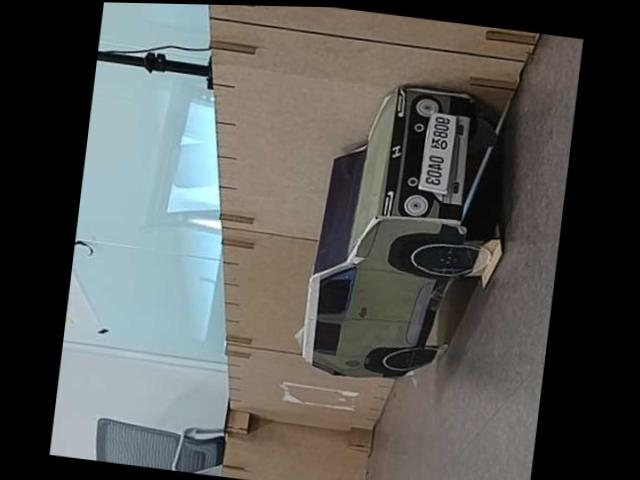car: (293, 68, 519, 398)
id: (417, 108, 461, 197)
